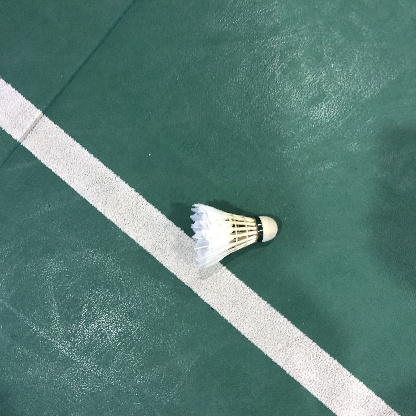ball_single: (190, 203, 277, 269)
